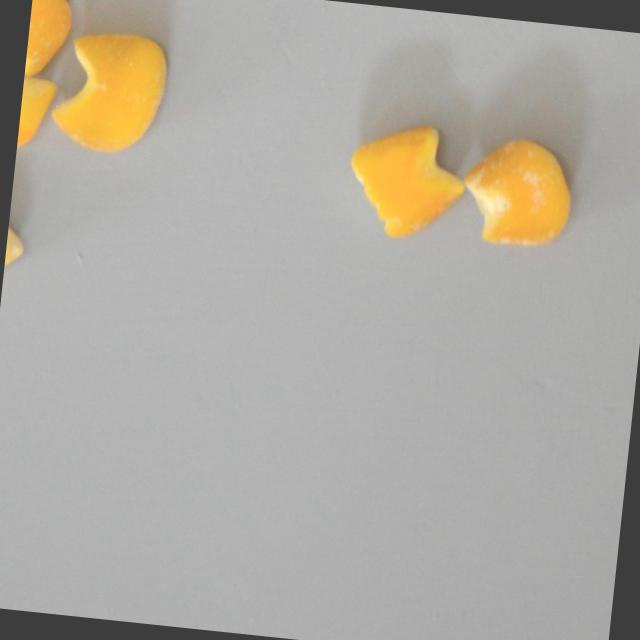dañado: (336, 111, 474, 248), (43, 22, 174, 160), (1, 170, 37, 294)
no_desgerminado: (16, 57, 61, 156)
pelicula: (24, 0, 75, 80)
punto_negro: (451, 126, 583, 255)
